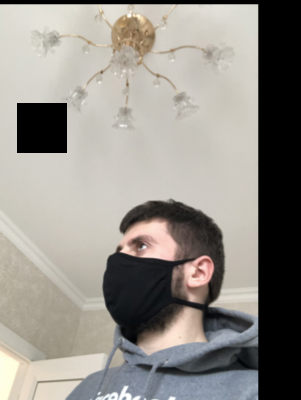with_mask: (103, 232, 180, 332)
